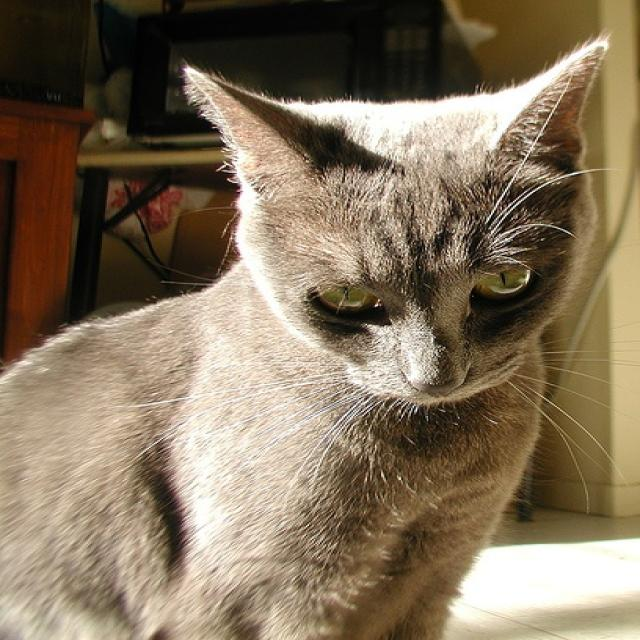cat: (0, 29, 613, 638)
